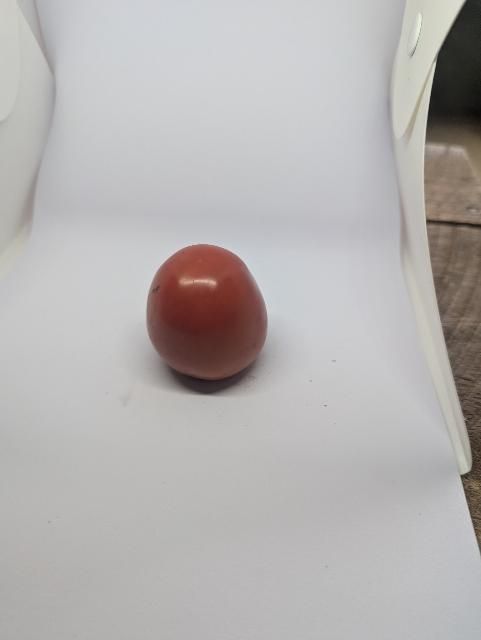red: (143, 238, 273, 394)
